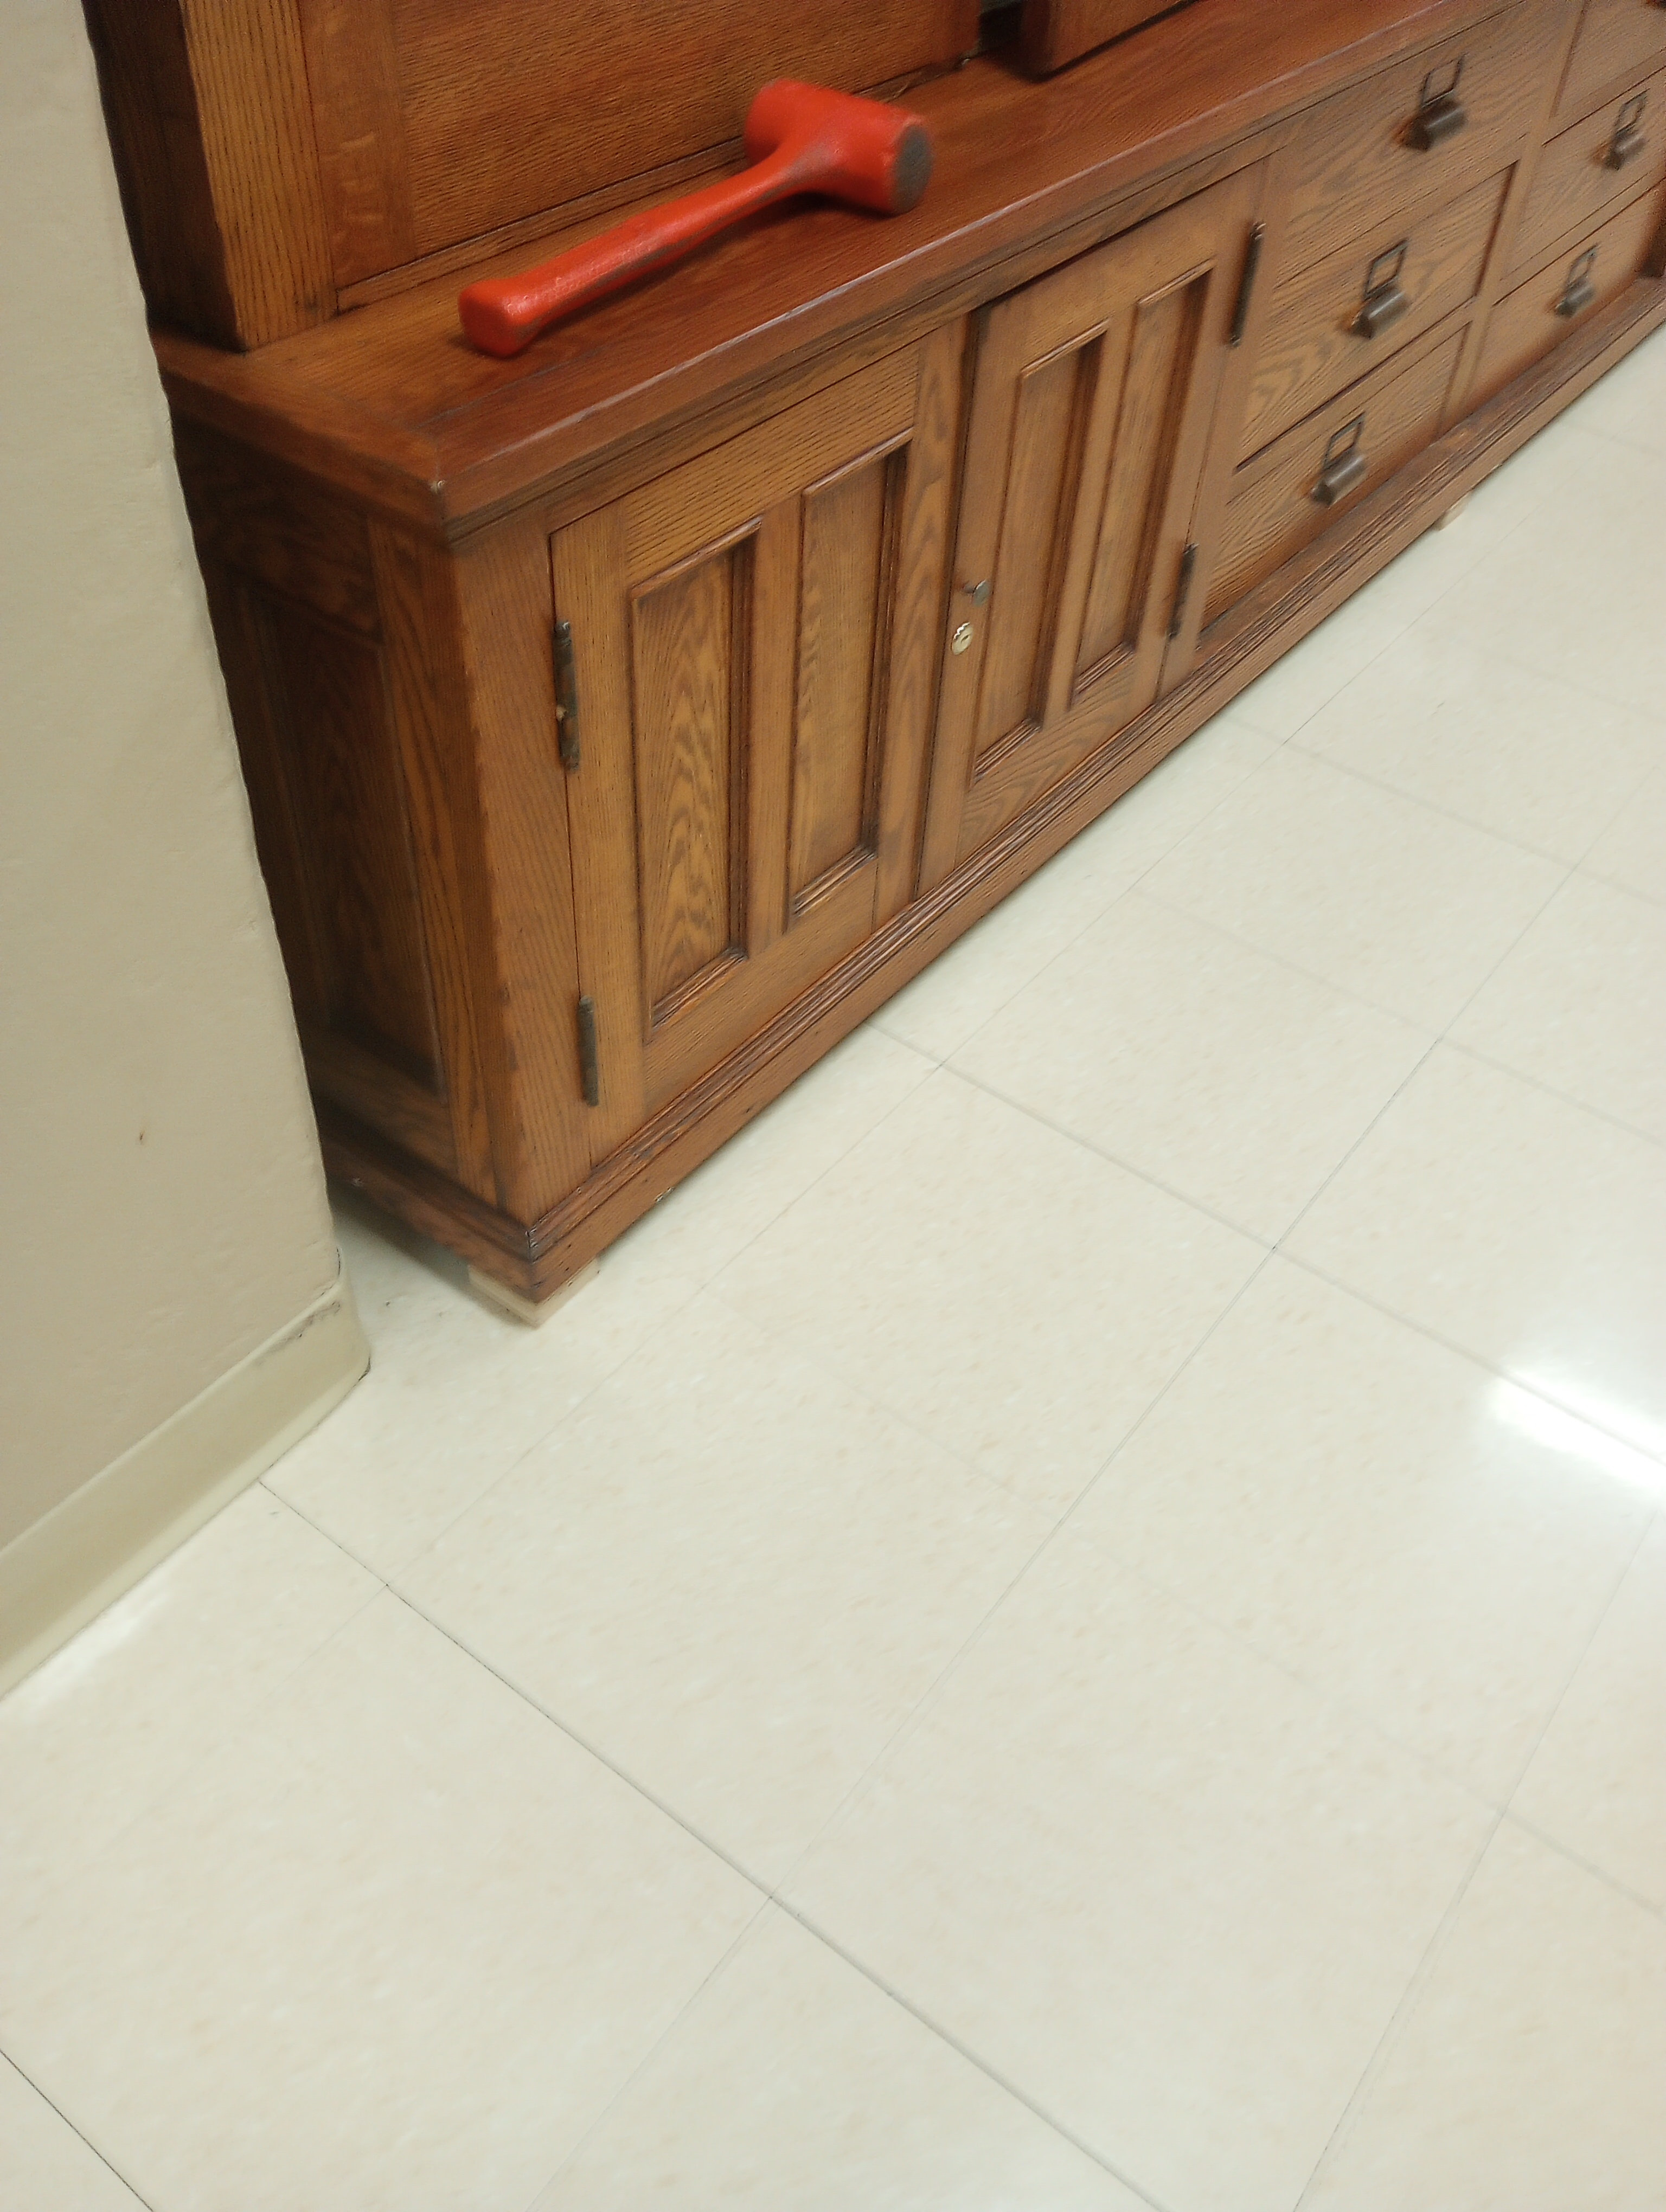bottle: (452, 63, 936, 364)
